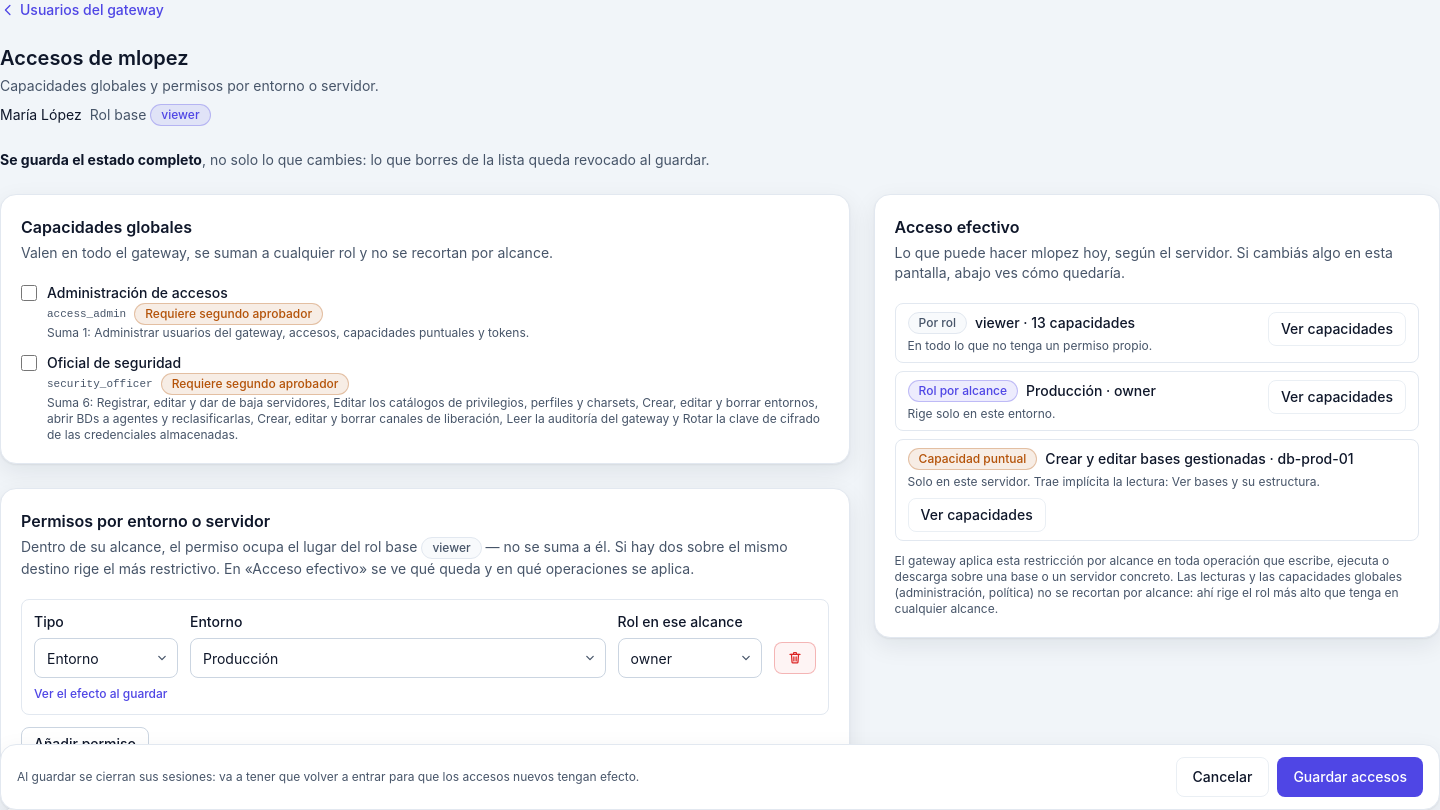
Test: GatewayUserAccessPage › mover un owner a otro destino lo marca como elevación, guarda el estado COMPLETO y vuelve al listado
expect the checkbox labelled "Oficial de seguridad" is shown: met, box [21, 355, 37, 371]
Click the 2nd button named "Abrir lista".
click(590, 658)  # box [578, 646, 602, 670]
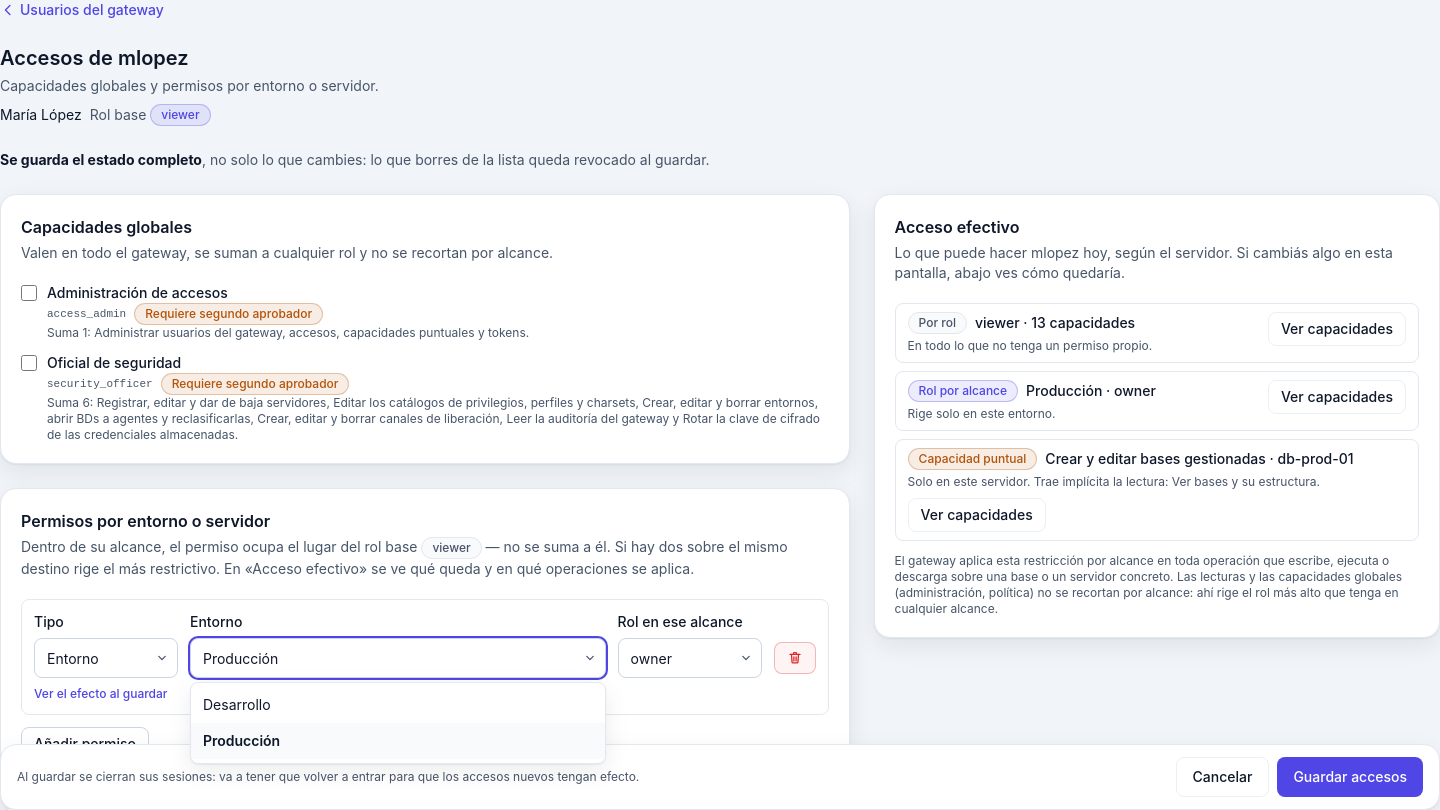
Click the option "Desarrollo".
click(237, 704)  # box [203, 696, 271, 713]
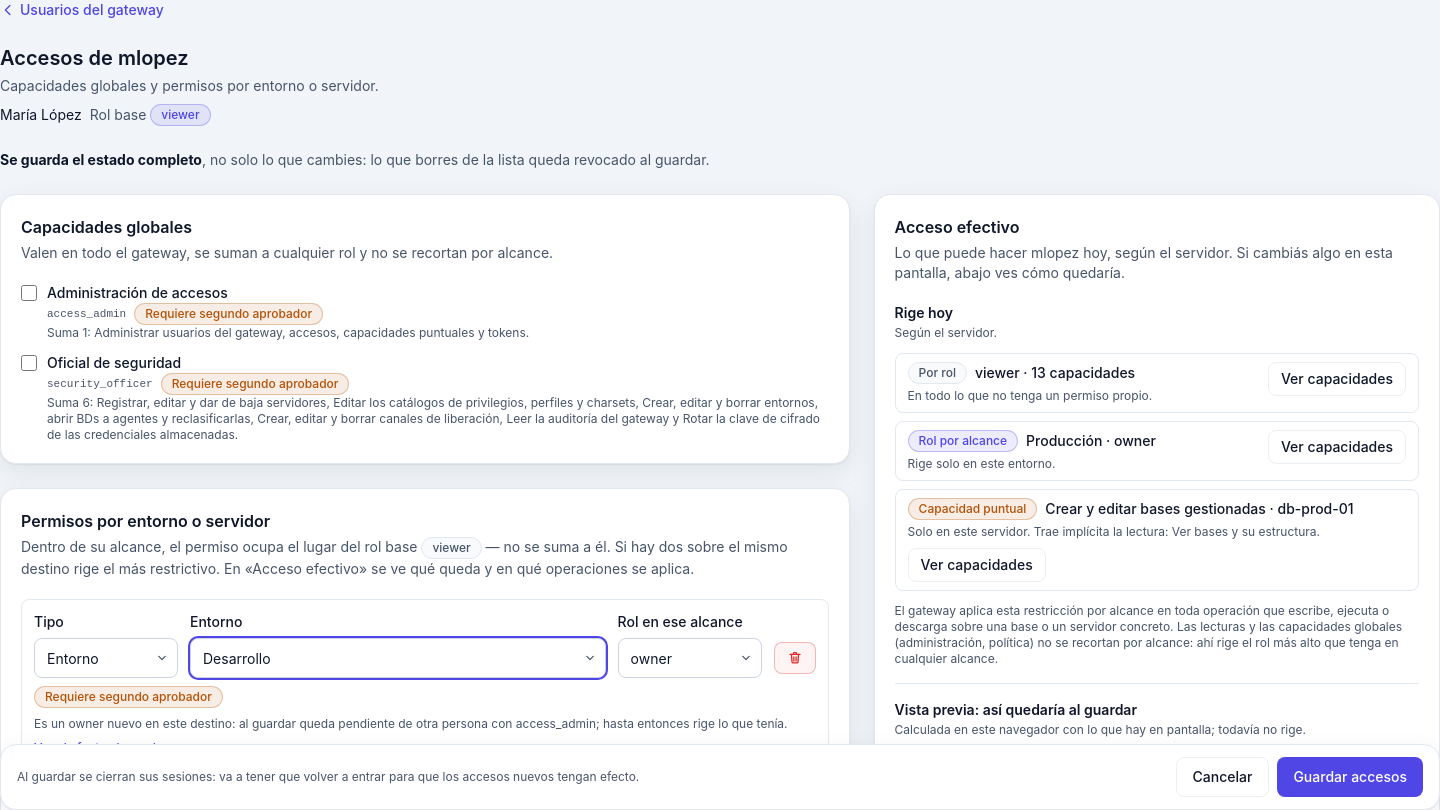
expect the dropdown labelled "Rol en ese alcance" holds "owner": met, box [618, 638, 762, 678]
expect the text "Es un owner nuevo en este destino" is shown: met, box [34, 716, 788, 731]
Click the button "Guardar accesos".
click(1350, 777)  # box [1277, 757, 1423, 797]
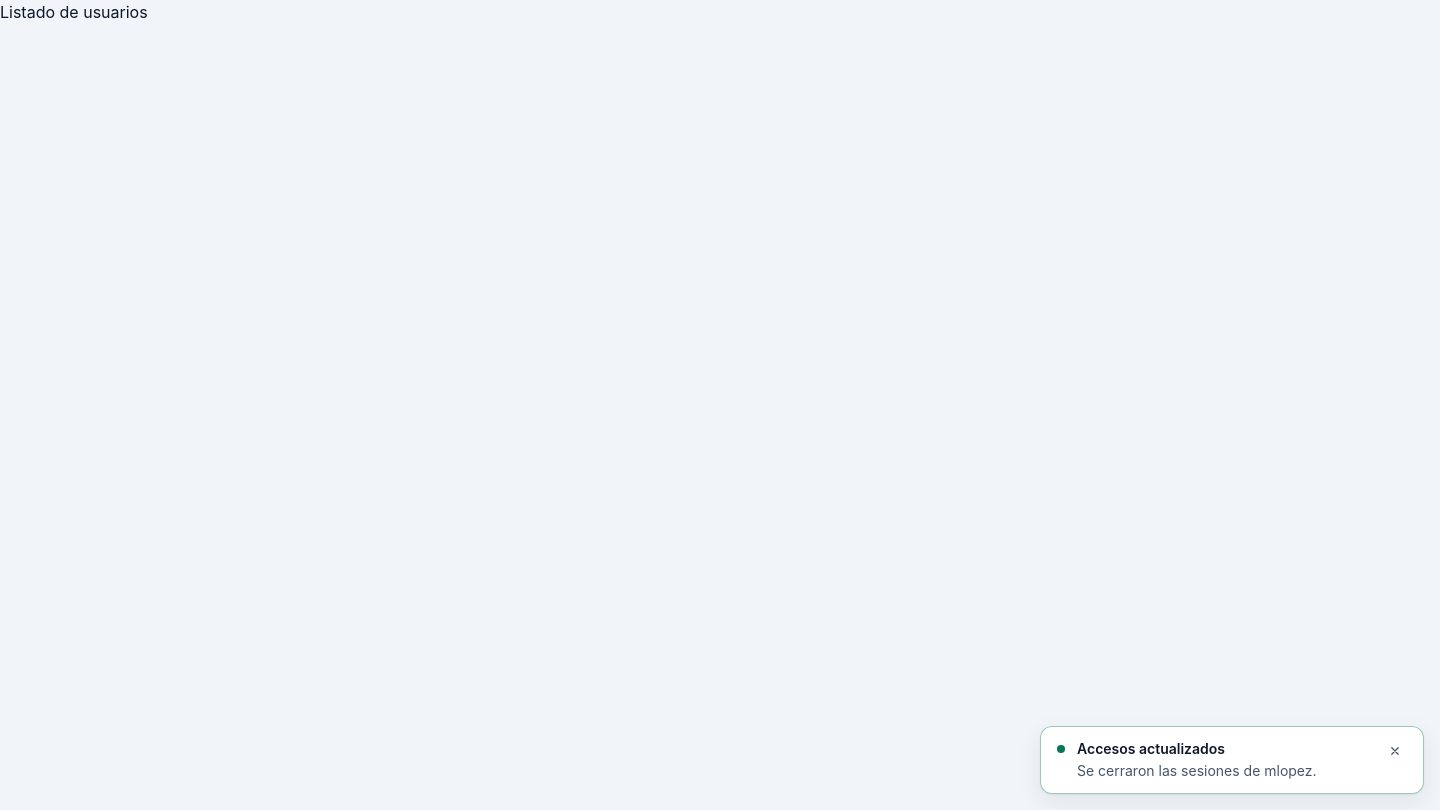
expect the text "Listado de usuarios" is shown: met, box [0, 2, 148, 22]
